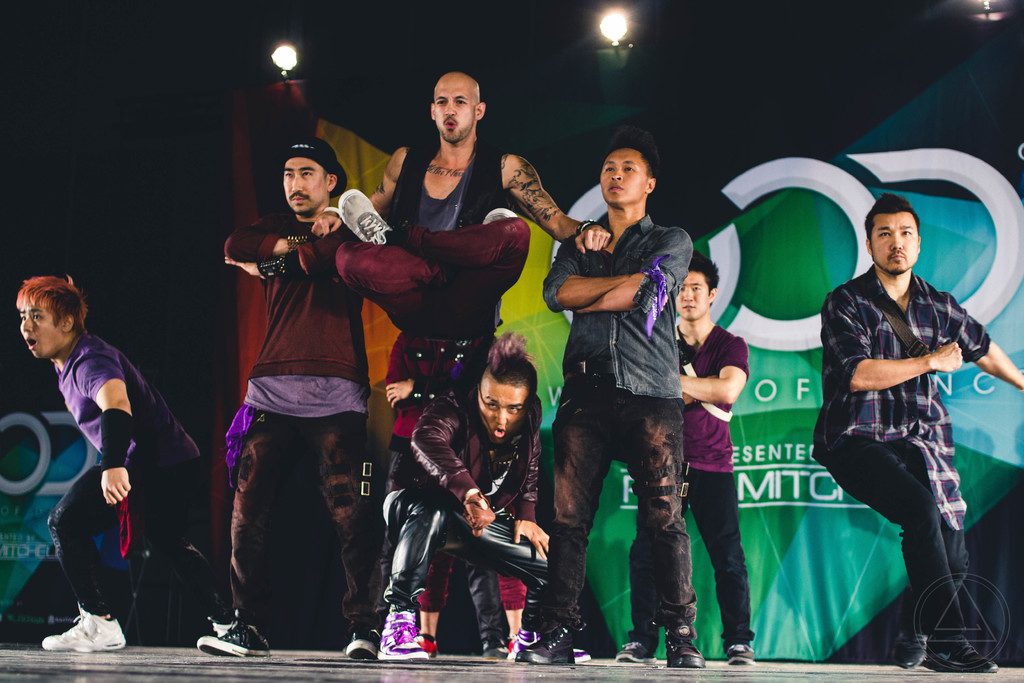Person: (15, 72, 754, 666), (811, 192, 1024, 674)
